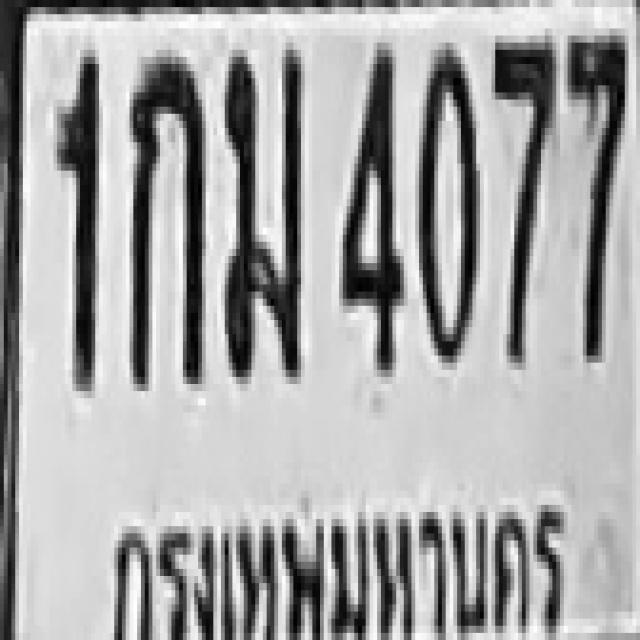0: (415, 42, 476, 356)
1: (53, 50, 99, 391)
10GorGai: (126, 50, 202, 384)
4: (339, 36, 400, 370)
42MorMa: (221, 43, 301, 377)
7: (492, 36, 552, 356), (566, 28, 623, 356)
Bangkok: (99, 469, 571, 640)
